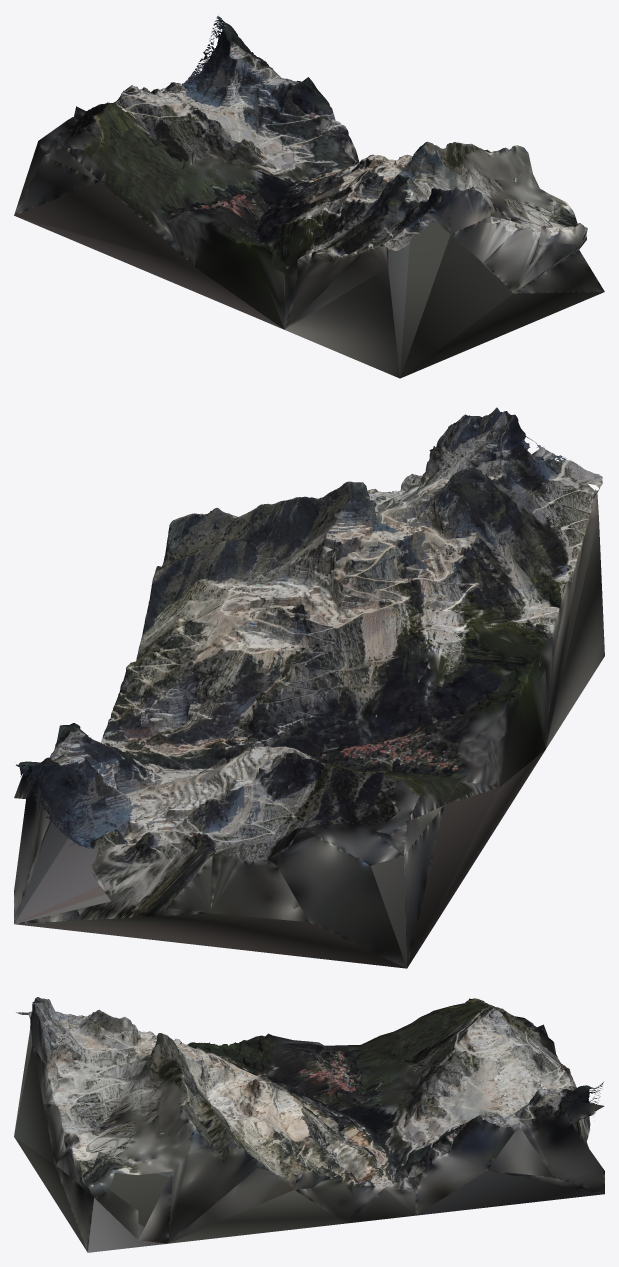
Rendered from marble.glb.
3 renders of one model, top to bottom at view 1: azimuth 30°, elevation 25°; view 2: azimuth 150°, elevation 25°; view 3: azimuth 270°, elevation 25°, orthographic. The views are drawn at different scales.
Parts seen in each view (by area): view 1: marble-q; view 2: marble-q; view 3: marble-q.
Part boxes in pixels (box(x1,y1,x2,y2)): marble-q: box(14, 16, 604, 378); marble-q: box(14, 407, 604, 968); marble-q: box(14, 997, 604, 1252).
Size of the model in its own units: 23.96 by 10.58 by 34.23.
3 materials, 3 textured.
